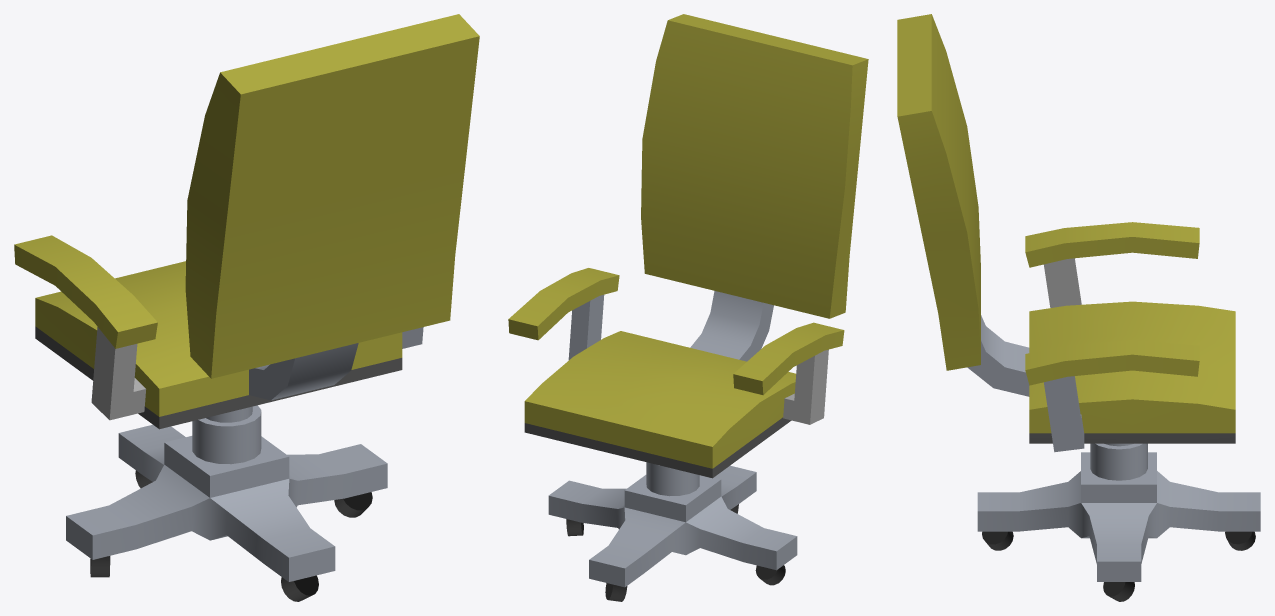
File: Chair.fbx
The picture shows the model from 3 angles, left to right: view 1: azimuth 30°, elevation 25°; view 2: azimuth 150°, elevation 25°; view 3: azimuth 270°, elevation 25°; orthographic projection. The views are drawn at different scales.
Parts seen in each view (by area): view 1: Chair; view 2: Chair; view 3: Chair.
Part boxes in pixels (x1,y1,x2,y2): Chair: (14, 14, 479, 601); Chair: (508, 14, 868, 601); Chair: (897, 14, 1260, 601).
Bounding box in the file's own units: 0.6217 × 1.05 × 0.712.
